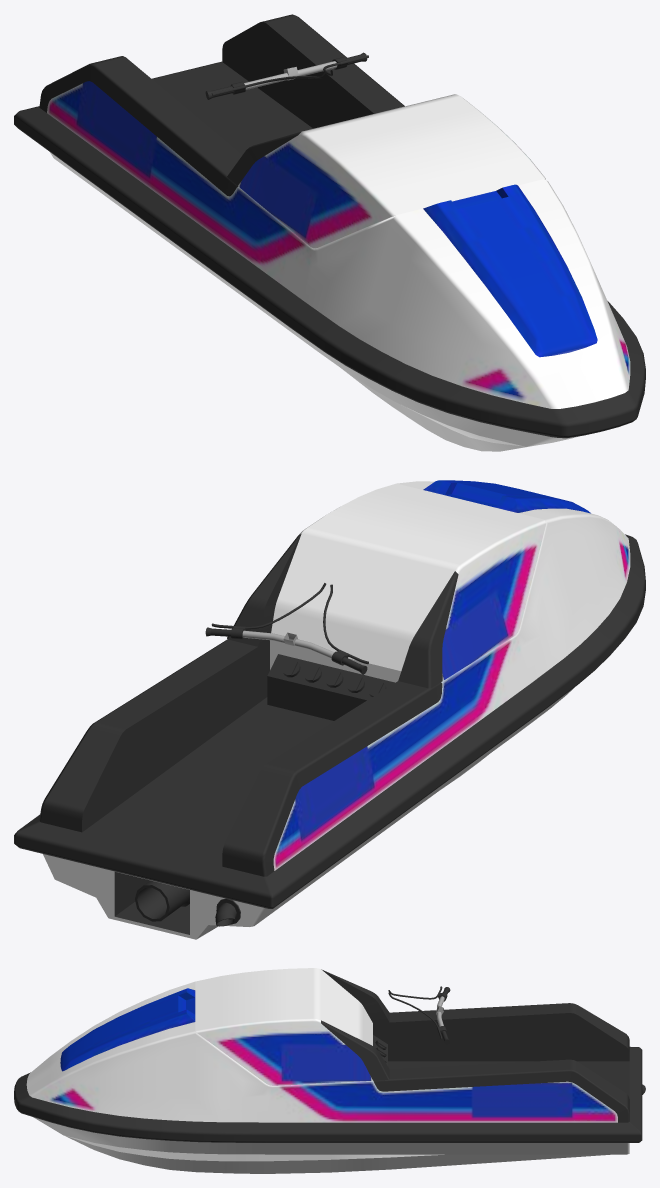
File: jetski.glb
The picture shows the model from 3 angles, top to bottom: view 1: azimuth 30°, elevation 25°; view 2: azimuth 150°, elevation 25°; view 3: azimuth 270°, elevation 25°; orthographic projection. The views are drawn at different scales.
Visible parts, largest first — view 1: V1_JetSki_1_Body_1, V1_JetSki_1_Handlebar_1; view 2: V1_JetSki_1_Body_1, V1_JetSki_1_Handlebar_1; view 3: V1_JetSki_1_Body_1, V1_JetSki_1_Handlebar_1.
Part boxes in pixels (box(x1,y1,x2,y2)): V1_JetSki_1_Body_1: box(14, 14, 645, 451); V1_JetSki_1_Handlebar_1: box(205, 52, 368, 99); V1_JetSki_1_Body_1: box(14, 480, 645, 939); V1_JetSki_1_Handlebar_1: box(205, 623, 368, 674); V1_JetSki_1_Body_1: box(14, 968, 645, 1173); V1_JetSki_1_Handlebar_1: box(436, 986, 450, 1044).
Bounding box in the file's own units: 0.9675 × 0.8769 × 2.99.
Materials: 2 (2 with a texture image).
